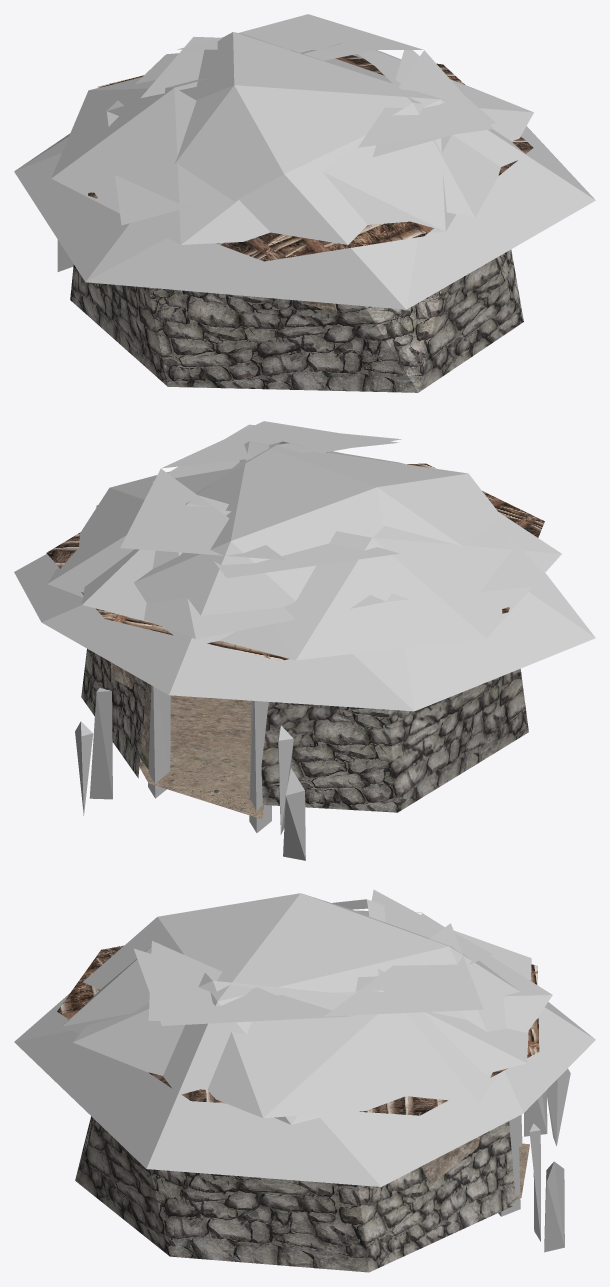
The model's file is RoundHut_4_LOD4.fbx.
3 renders of one model, top to bottom at view 1: azimuth 30°, elevation 25°; view 2: azimuth 150°, elevation 25°; view 3: azimuth 270°, elevation 25°, orthographic. The views are drawn at different scales.
Visible parts, largest first — view 1: Alpha, Stone, Roof; view 2: Alpha, Stone, Wood, Ground, Roof, Plaster; view 3: Alpha, Stone, Wood, Roof, Plaster.
Part boxes in pixels (box(x1,y1,x2,y2)): Alpha: box(14, 14, 595, 309); Stone: box(70, 249, 523, 392); Roof: box(88, 55, 533, 261); Alpha: box(14, 421, 595, 711); Stone: box(81, 648, 528, 812); Wood: box(75, 685, 305, 860); Ground: box(139, 695, 264, 819); Roof: box(46, 463, 544, 660); Plaster: box(110, 662, 151, 769); Alpha: box(14, 890, 595, 1186); Stone: box(75, 1116, 515, 1272); Wood: box(498, 1068, 570, 1252); Roof: box(57, 945, 539, 1115); Plaster: box(421, 1136, 480, 1185).
Bounding box in the file's own units: 1107 × 1091 × 569.
